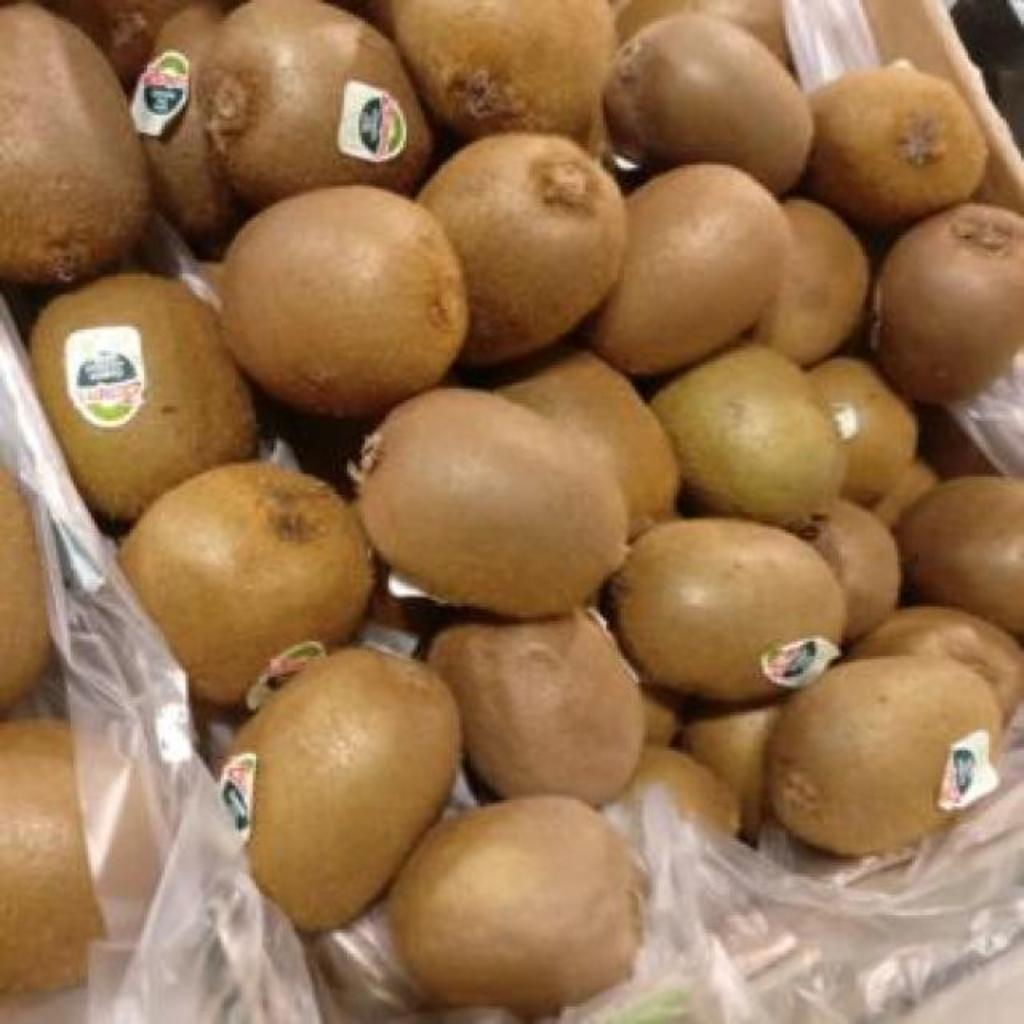kiwi: (238, 648, 462, 932), (122, 462, 374, 704), (360, 394, 628, 614), (222, 190, 466, 414), (34, 278, 252, 520), (390, 798, 634, 1014), (206, 0, 432, 204), (770, 658, 1002, 854), (422, 138, 622, 362), (590, 164, 788, 376), (0, 6, 150, 282), (614, 522, 846, 700), (430, 614, 644, 804), (606, 14, 810, 194), (652, 344, 844, 522), (391, 0, 616, 151), (802, 60, 988, 226), (499, 352, 674, 522), (878, 204, 1024, 400), (0, 724, 102, 991), (134, 13, 236, 236), (900, 480, 1024, 637), (851, 610, 1024, 722), (754, 203, 868, 366), (806, 362, 916, 506), (682, 707, 780, 840), (812, 505, 900, 642), (0, 470, 50, 706), (630, 748, 740, 832), (872, 458, 940, 528), (644, 692, 678, 748)
